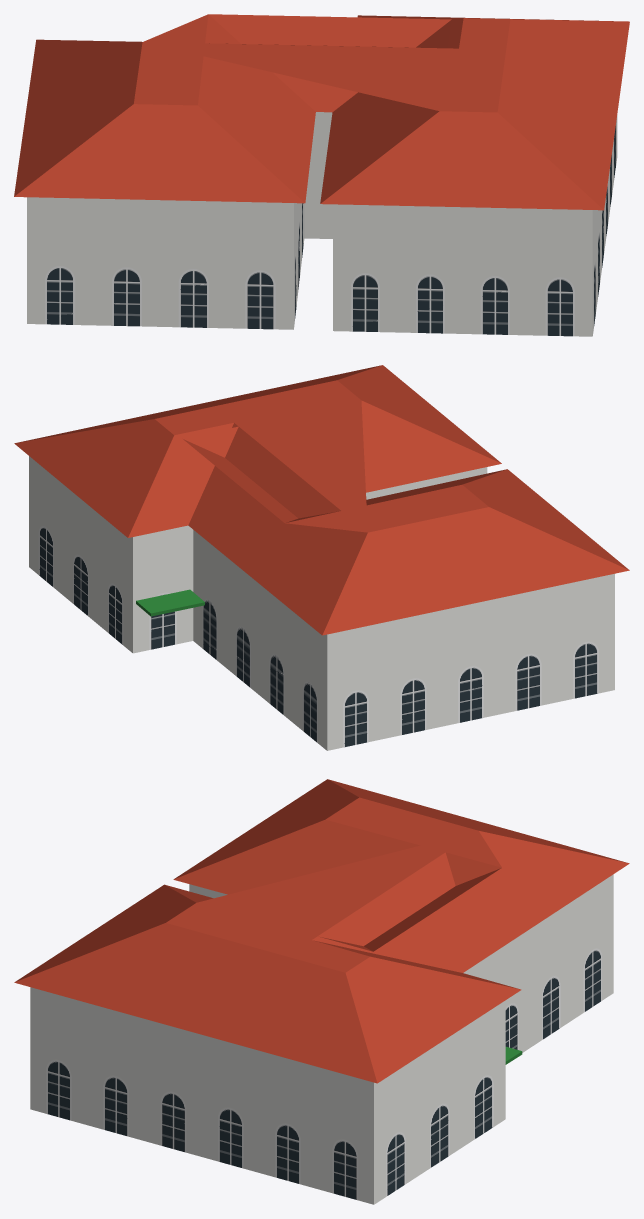
The model's file is nd_whitered.glb.
The picture shows the model from 3 angles, top to bottom: view 1: azimuth 30°, elevation 25°; view 2: azimuth 150°, elevation 25°; view 3: azimuth 270°, elevation 25°; orthographic projection. The views are drawn at different scales.
Visible parts, largest first — view 1: nd_whitered_lod0; view 2: nd_whitered_lod0; view 3: nd_whitered_lod0.
Part boxes in pixels (<box>): nd_whitered_lod0: <box>14,14,629,336</box>; nd_whitered_lod0: <box>14,365,629,750</box>; nd_whitered_lod0: <box>14,779,629,1204</box>.
Size of what is drawn, in the model's own units: 36.67 by 9.8 by 31.35.
Materials: 5 (1 with a texture image).
